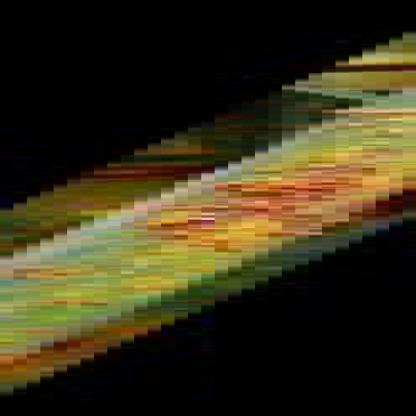wheat Stem Rust: (129, 203, 340, 231), (228, 166, 415, 194), (305, 126, 415, 154), (17, 294, 114, 314), (0, 266, 114, 282), (132, 241, 248, 254)
